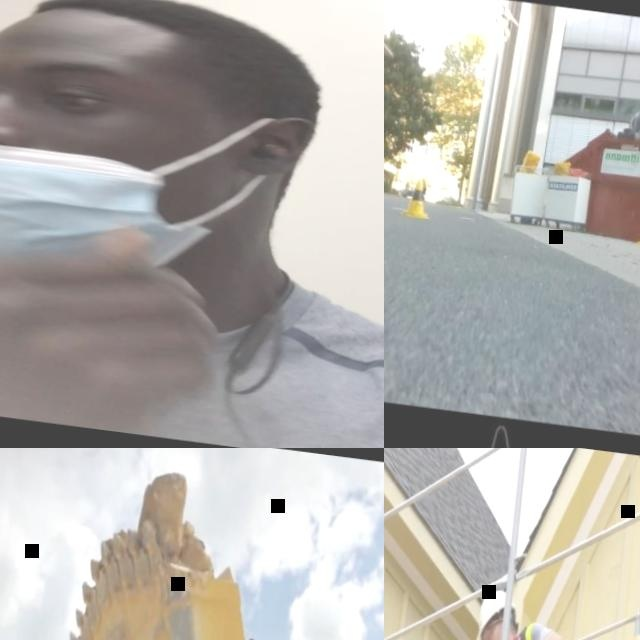Hardhat: (473, 586, 518, 640)
Mask: (0, 79, 311, 300)
NO-Hardhat: (0, 0, 318, 76)
NO-Safety Vest: (0, 259, 384, 448)
Person: (0, 0, 384, 448), (467, 585, 579, 640)
Safety Cone: (398, 178, 432, 218), (635, 216, 640, 247)
Safety Vest: (507, 618, 575, 640)
machinery: (15, 504, 384, 640)
